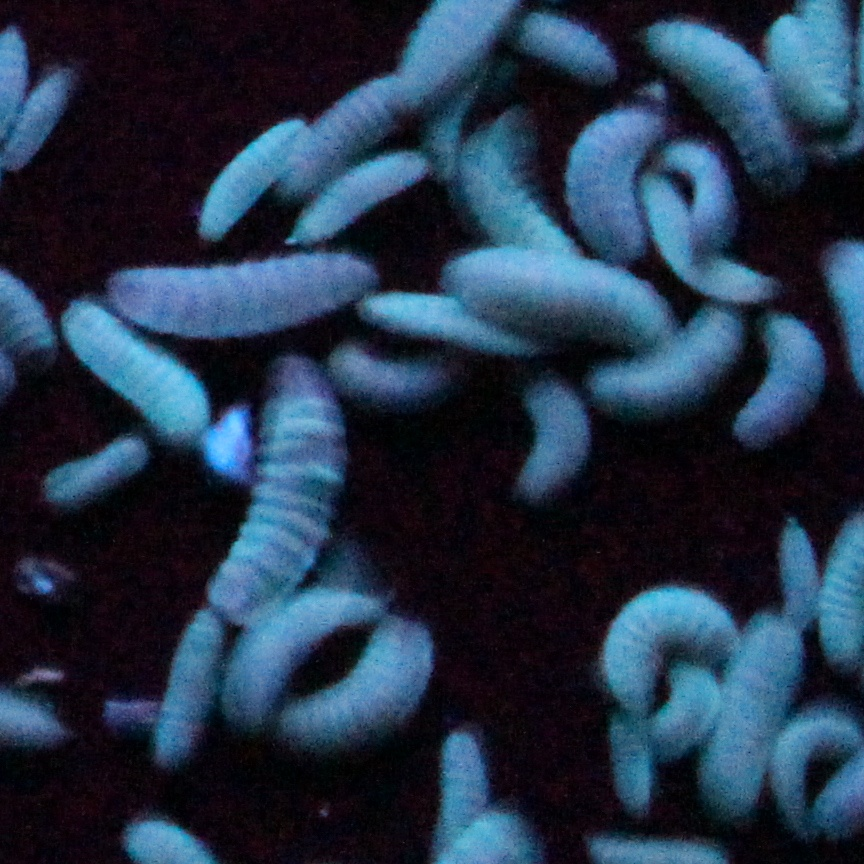larve: (207, 369, 362, 603), (646, 19, 800, 185), (221, 571, 389, 714), (50, 294, 218, 435), (453, 244, 680, 348), (112, 260, 387, 337), (700, 614, 800, 825), (278, 623, 439, 741), (564, 107, 680, 264), (605, 578, 739, 710), (632, 180, 773, 303), (457, 130, 589, 255), (573, 312, 753, 398), (184, 123, 316, 239), (275, 85, 412, 194), (730, 300, 825, 453), (296, 150, 432, 241), (148, 600, 216, 771), (364, 289, 521, 355), (664, 139, 743, 255), (518, 382, 596, 494), (434, 725, 505, 841), (523, 16, 641, 80), (771, 503, 825, 637), (41, 439, 146, 498), (650, 666, 730, 739), (609, 710, 659, 812)
